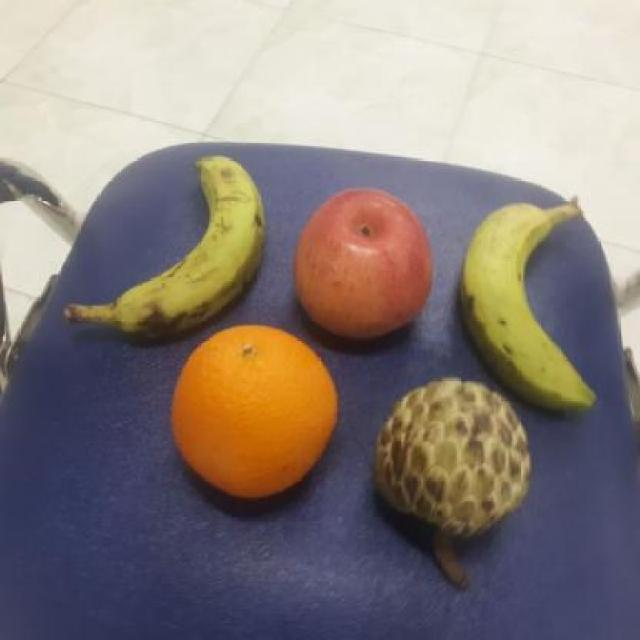apple: (290, 185, 438, 344)
banana: (458, 195, 602, 413), (110, 154, 276, 343)
oren: (168, 326, 340, 502)
sugar apple: (367, 376, 536, 538)
